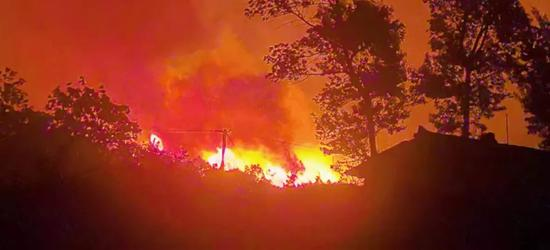fire: (210, 148, 333, 184), (149, 134, 161, 152)
